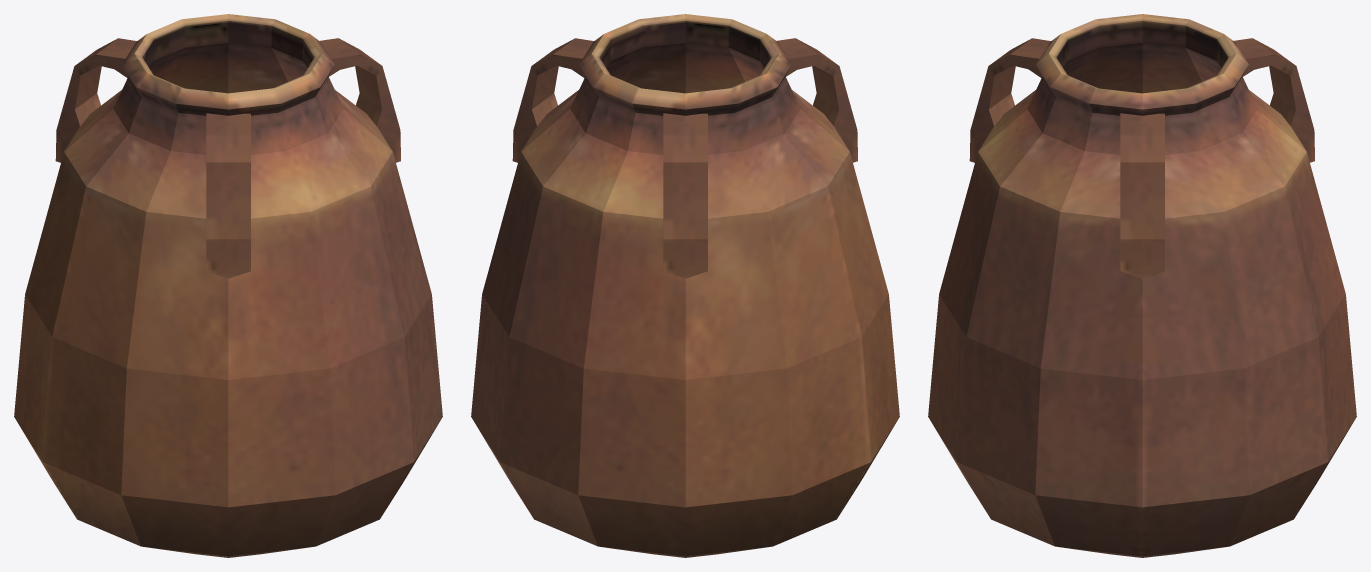
File: GuanZi_1.fbx
3 renders of one model, left to right at view 1: azimuth 30°, elevation 25°; view 2: azimuth 150°, elevation 25°; view 3: azimuth 270°, elevation 25°, orthographic.
Parts seen in each view (by area): view 1: 3D_GuanZi2.mo; view 2: 3D_GuanZi2.mo; view 3: 3D_GuanZi2.mo.
Boxes of the visible parts, x1,y1,x2,y2 form: 3D_GuanZi2.mo: [14, 14, 442, 557]; 3D_GuanZi2.mo: [471, 14, 899, 557]; 3D_GuanZi2.mo: [928, 14, 1356, 557].
Bounding box in the file's own units: 11.95 × 14.68 × 11.95.
